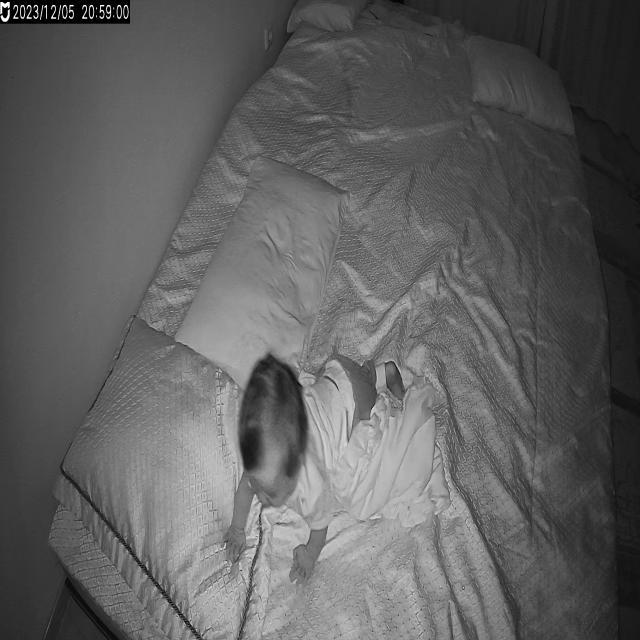baby: (227, 343, 410, 584)
